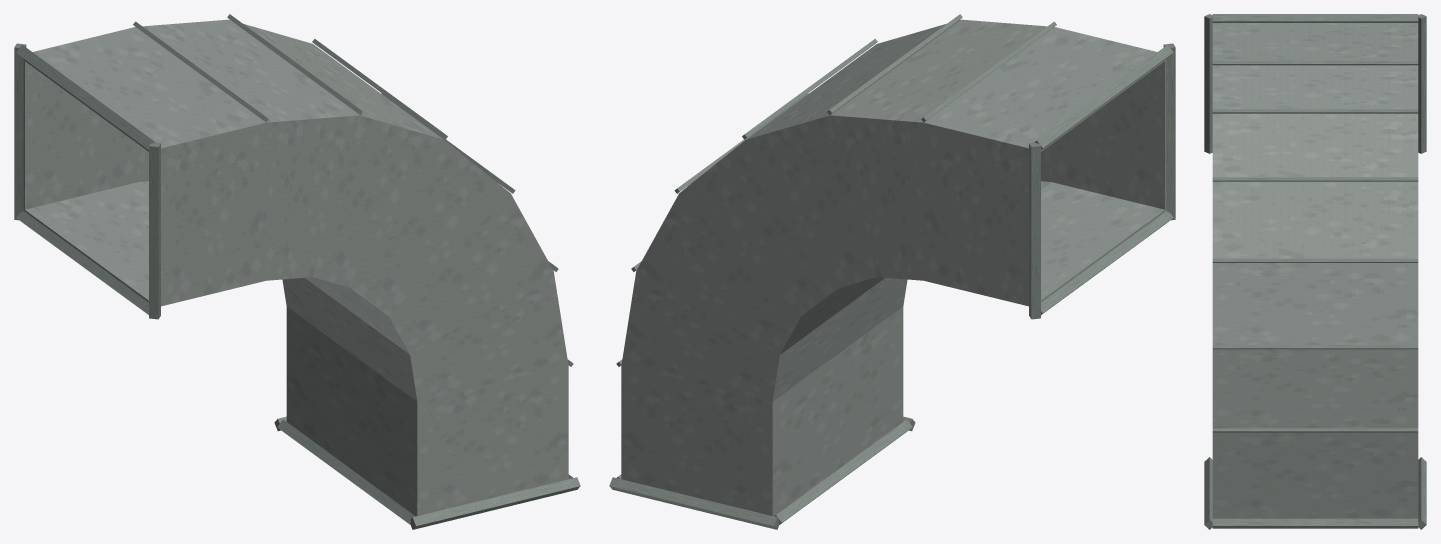
The model's file is hvac_elbow_down.glb.
3 views of the same model, side by side, from view 1: azimuth 30°, elevation 25°; view 2: azimuth 150°, elevation 25°; view 3: azimuth 270°, elevation 25° (orthographic). The views are drawn at different scales.
Visible parts, largest first — view 1: hvac_elbow_down; view 2: hvac_elbow_down; view 3: hvac_elbow_down.
Part boxes in pixels (<box>): hvac_elbow_down: <box>14,14,580,529</box>; hvac_elbow_down: <box>609,14,1175,529</box>; hvac_elbow_down: <box>1204,14,1426,529</box>.
Bounding box in the file's own units: 1.14 × 1.14 × 0.65.
2 materials, 2 textured.
